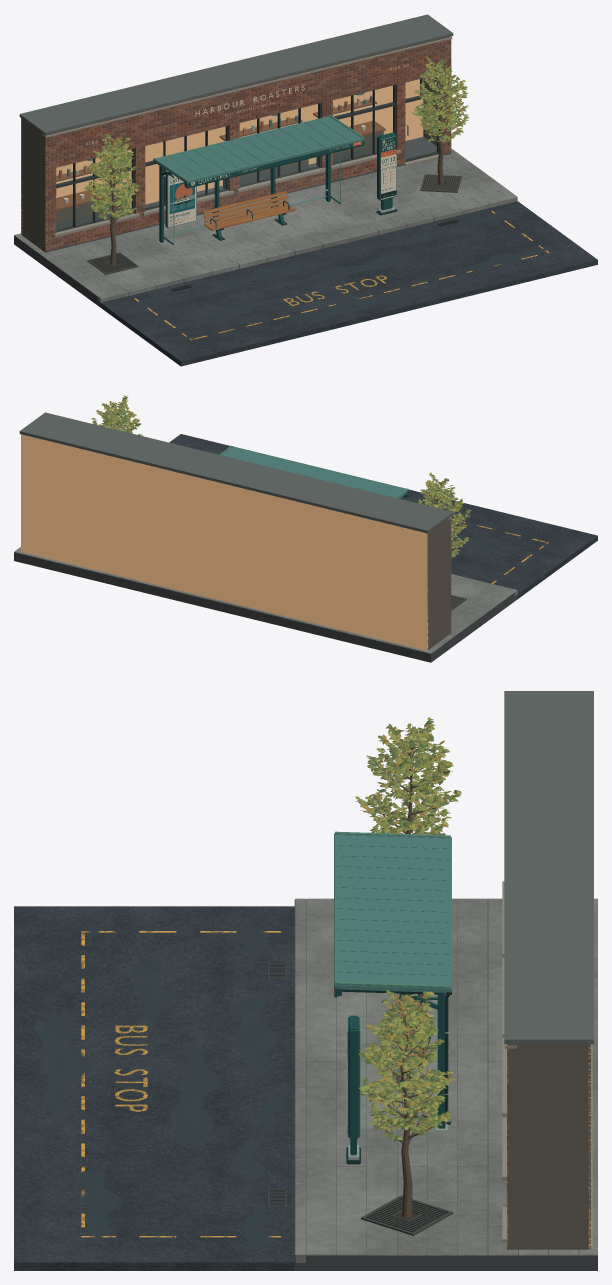
3 views of the same model, one above another, from view 1: azimuth 30°, elevation 25°; view 2: azimuth 150°, elevation 25°; view 3: azimuth 270°, elevation 25° (orthographic). The views are drawn at different scales.
Visible parts, largest first — view 1: Ground.Asphalt, Ground.Paving, Harbour.Brick, Harbour.Trim, Harbour.Shell, Shelter.RoofDeck, Water.Pools, Harbour.Interior, Harbour.Frames, Ground.Curb, Linden.Leaves.001, Linden.Leaves (+7 smaller); view 2: Harbour.Shell, Harbour.Trim, Ground.Asphalt, Ground.Substrate, Ground.Paving, Shelter.RoofDeck, Linden.Leaves, Linden.Leaves.001, Water.Pools; view 3: Ground.Asphalt, Ground.Paving, Harbour.Trim, Shelter.RoofDeck, Harbour.Shell, Water.Pools, Linden.Leaves.001, Linden.Leaves, Ground.Substrate, Ground.Curb, Linden.Trunk.001, Linden.Grate.001 (+5 smaller).
Part boxes in pixels (bbox=[...]): Ground.Asphalt: bbox=[100, 201, 597, 366]; Ground.Paving: bbox=[14, 148, 513, 296]; Harbour.Brick: bbox=[45, 36, 451, 251]; Harbour.Trim: bbox=[19, 14, 453, 237]; Harbour.Shell: bbox=[21, 49, 451, 252]; Shelter.RoofDeck: bbox=[153, 116, 364, 183]; Water.Pools: bbox=[128, 211, 552, 341]; Harbour.Interior: bbox=[56, 92, 385, 229]; Harbour.Frames: bbox=[56, 78, 439, 232]; Ground.Curb: bbox=[97, 194, 517, 302]; Linden.Leaves.001: bbox=[412, 56, 468, 142]; Linden.Leaves: bbox=[84, 133, 140, 219]; Harbour.Shell: bbox=[21, 434, 450, 650]; Harbour.Trim: bbox=[19, 412, 453, 533]; Ground.Asphalt: bbox=[169, 434, 597, 598]; Ground.Substrate: bbox=[14, 552, 517, 662]; Ground.Paving: bbox=[14, 547, 514, 654]; Shelter.RoofDeck: bbox=[223, 447, 408, 498]; Linden.Leaves: bbox=[418, 472, 471, 557]; Linden.Leaves.001: bbox=[91, 395, 143, 435]; Water.Pools: bbox=[400, 497, 558, 580]; Ground.Asphalt: bbox=[14, 906, 294, 1270]; Ground.Paving: bbox=[306, 898, 597, 1255]; Harbour.Trim: bbox=[502, 691, 593, 1241]; Shelter.RoofDeck: bbox=[334, 834, 451, 992]; Harbour.Shell: bbox=[507, 1044, 592, 1249]; Water.Pools: bbox=[33, 918, 288, 1248]; Linden.Leaves.001: bbox=[357, 990, 456, 1141]; Linden.Leaves: bbox=[355, 717, 461, 835]; Ground.Substrate: bbox=[294, 899, 597, 1270]; Ground.Curb: bbox=[294, 898, 305, 1262]; Linden.Trunk.001: bbox=[369, 996, 447, 1217]; Linden.Grate.001: bbox=[361, 1195, 453, 1235].
Size of the model in its own units: 15 by 4.62 by 10.4.
Materials: 67 (11 with a texture image).
